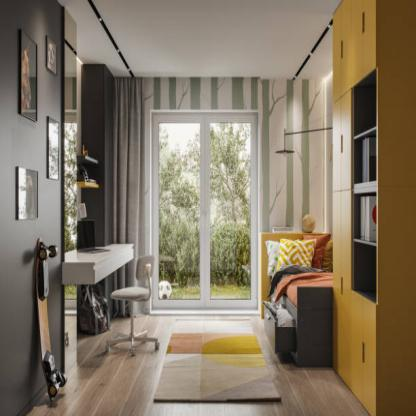Window: (150, 110, 258, 312)
